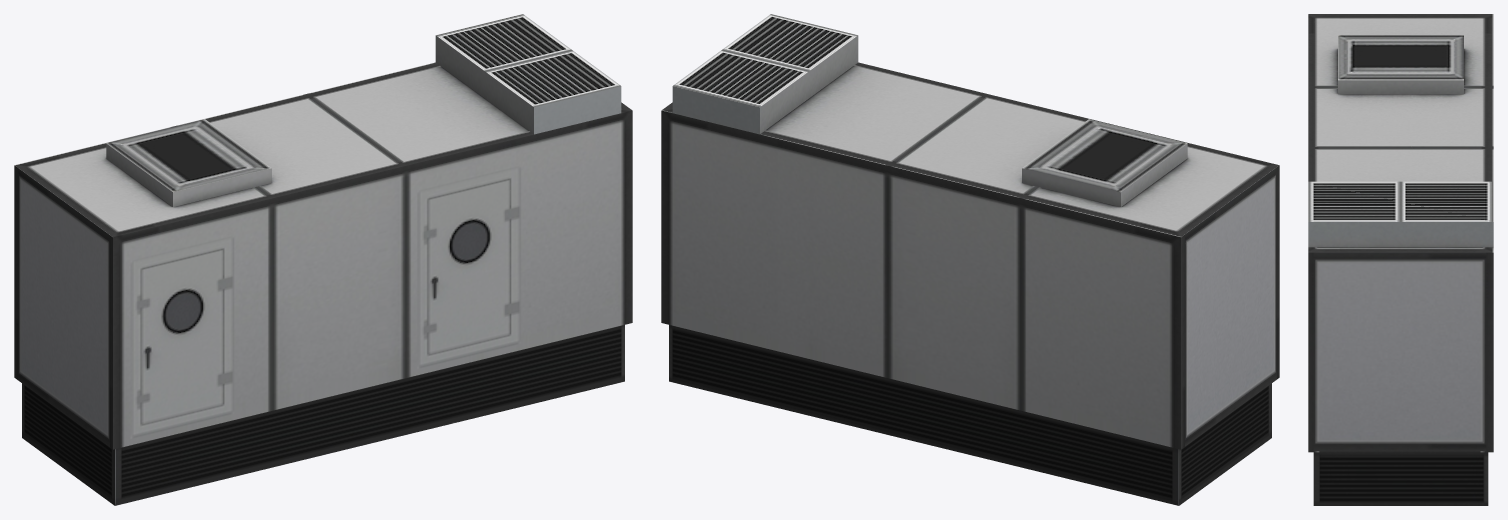
File: OHU103.gltf
3 renders of one model, left to right at view 1: azimuth 30°, elevation 25°; view 2: azimuth 150°, elevation 25°; view 3: azimuth 270°, elevation 25°, orthographic. The views are drawn at different scales.
Parts seen in each view (by area): view 1: OHU103; view 2: OHU103; view 3: OHU103.
Part boxes in pixels (left/top/right/bottom): OHU103: left=14, top=14, right=632, bottom=505; OHU103: left=661, top=14, right=1279, bottom=505; OHU103: left=1308, top=14, right=1493, bottom=505.
Size of the model in its own units: 32 by 17.6 by 10.5.
1 material, 1 textured.
